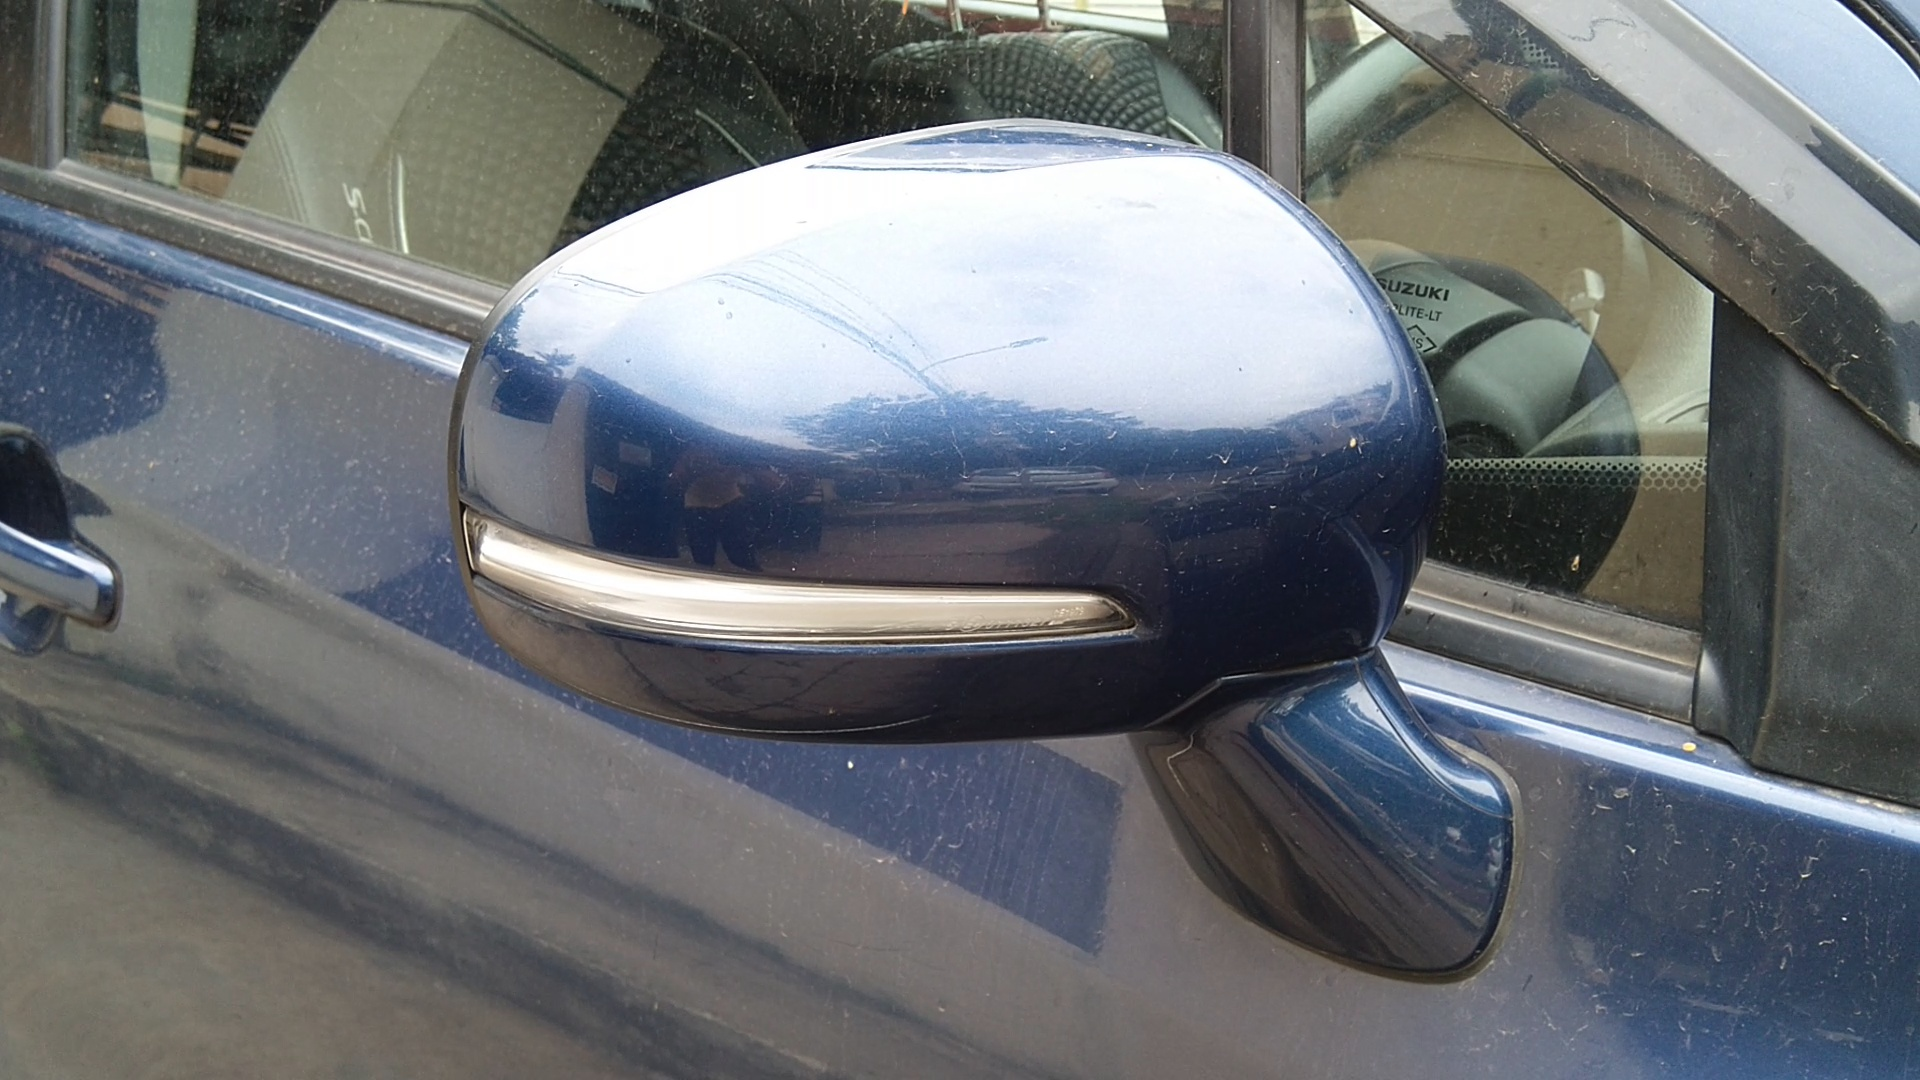ovr_mirror: (409, 98, 1592, 1025)
